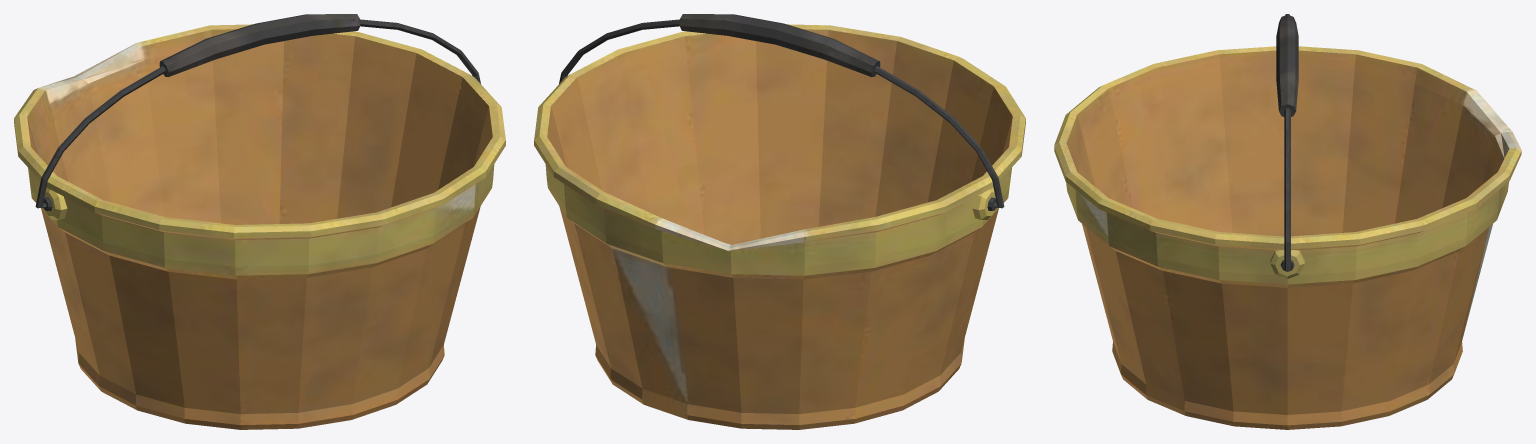
The model's file is D22_bucket_v2.glb.
The picture shows the model from 3 angles, left to right: view 1: azimuth 30°, elevation 25°; view 2: azimuth 150°, elevation 25°; view 3: azimuth 270°, elevation 25°; orthographic projection. The views are drawn at different scales.
Visible parts, largest first — view 1: Chipped molded bucket; view 2: Chipped molded bucket; view 3: Chipped molded bucket.
Part boxes in pixels (box(x1,y1,x2,y2)): Chipped molded bucket: box(14, 14, 505, 429); Chipped molded bucket: box(534, 14, 1025, 429); Chipped molded bucket: box(1054, 14, 1521, 429).
Size of the model in its own units: 0.4 by 0.2818 by 0.3839.
5 materials, 5 textured.
